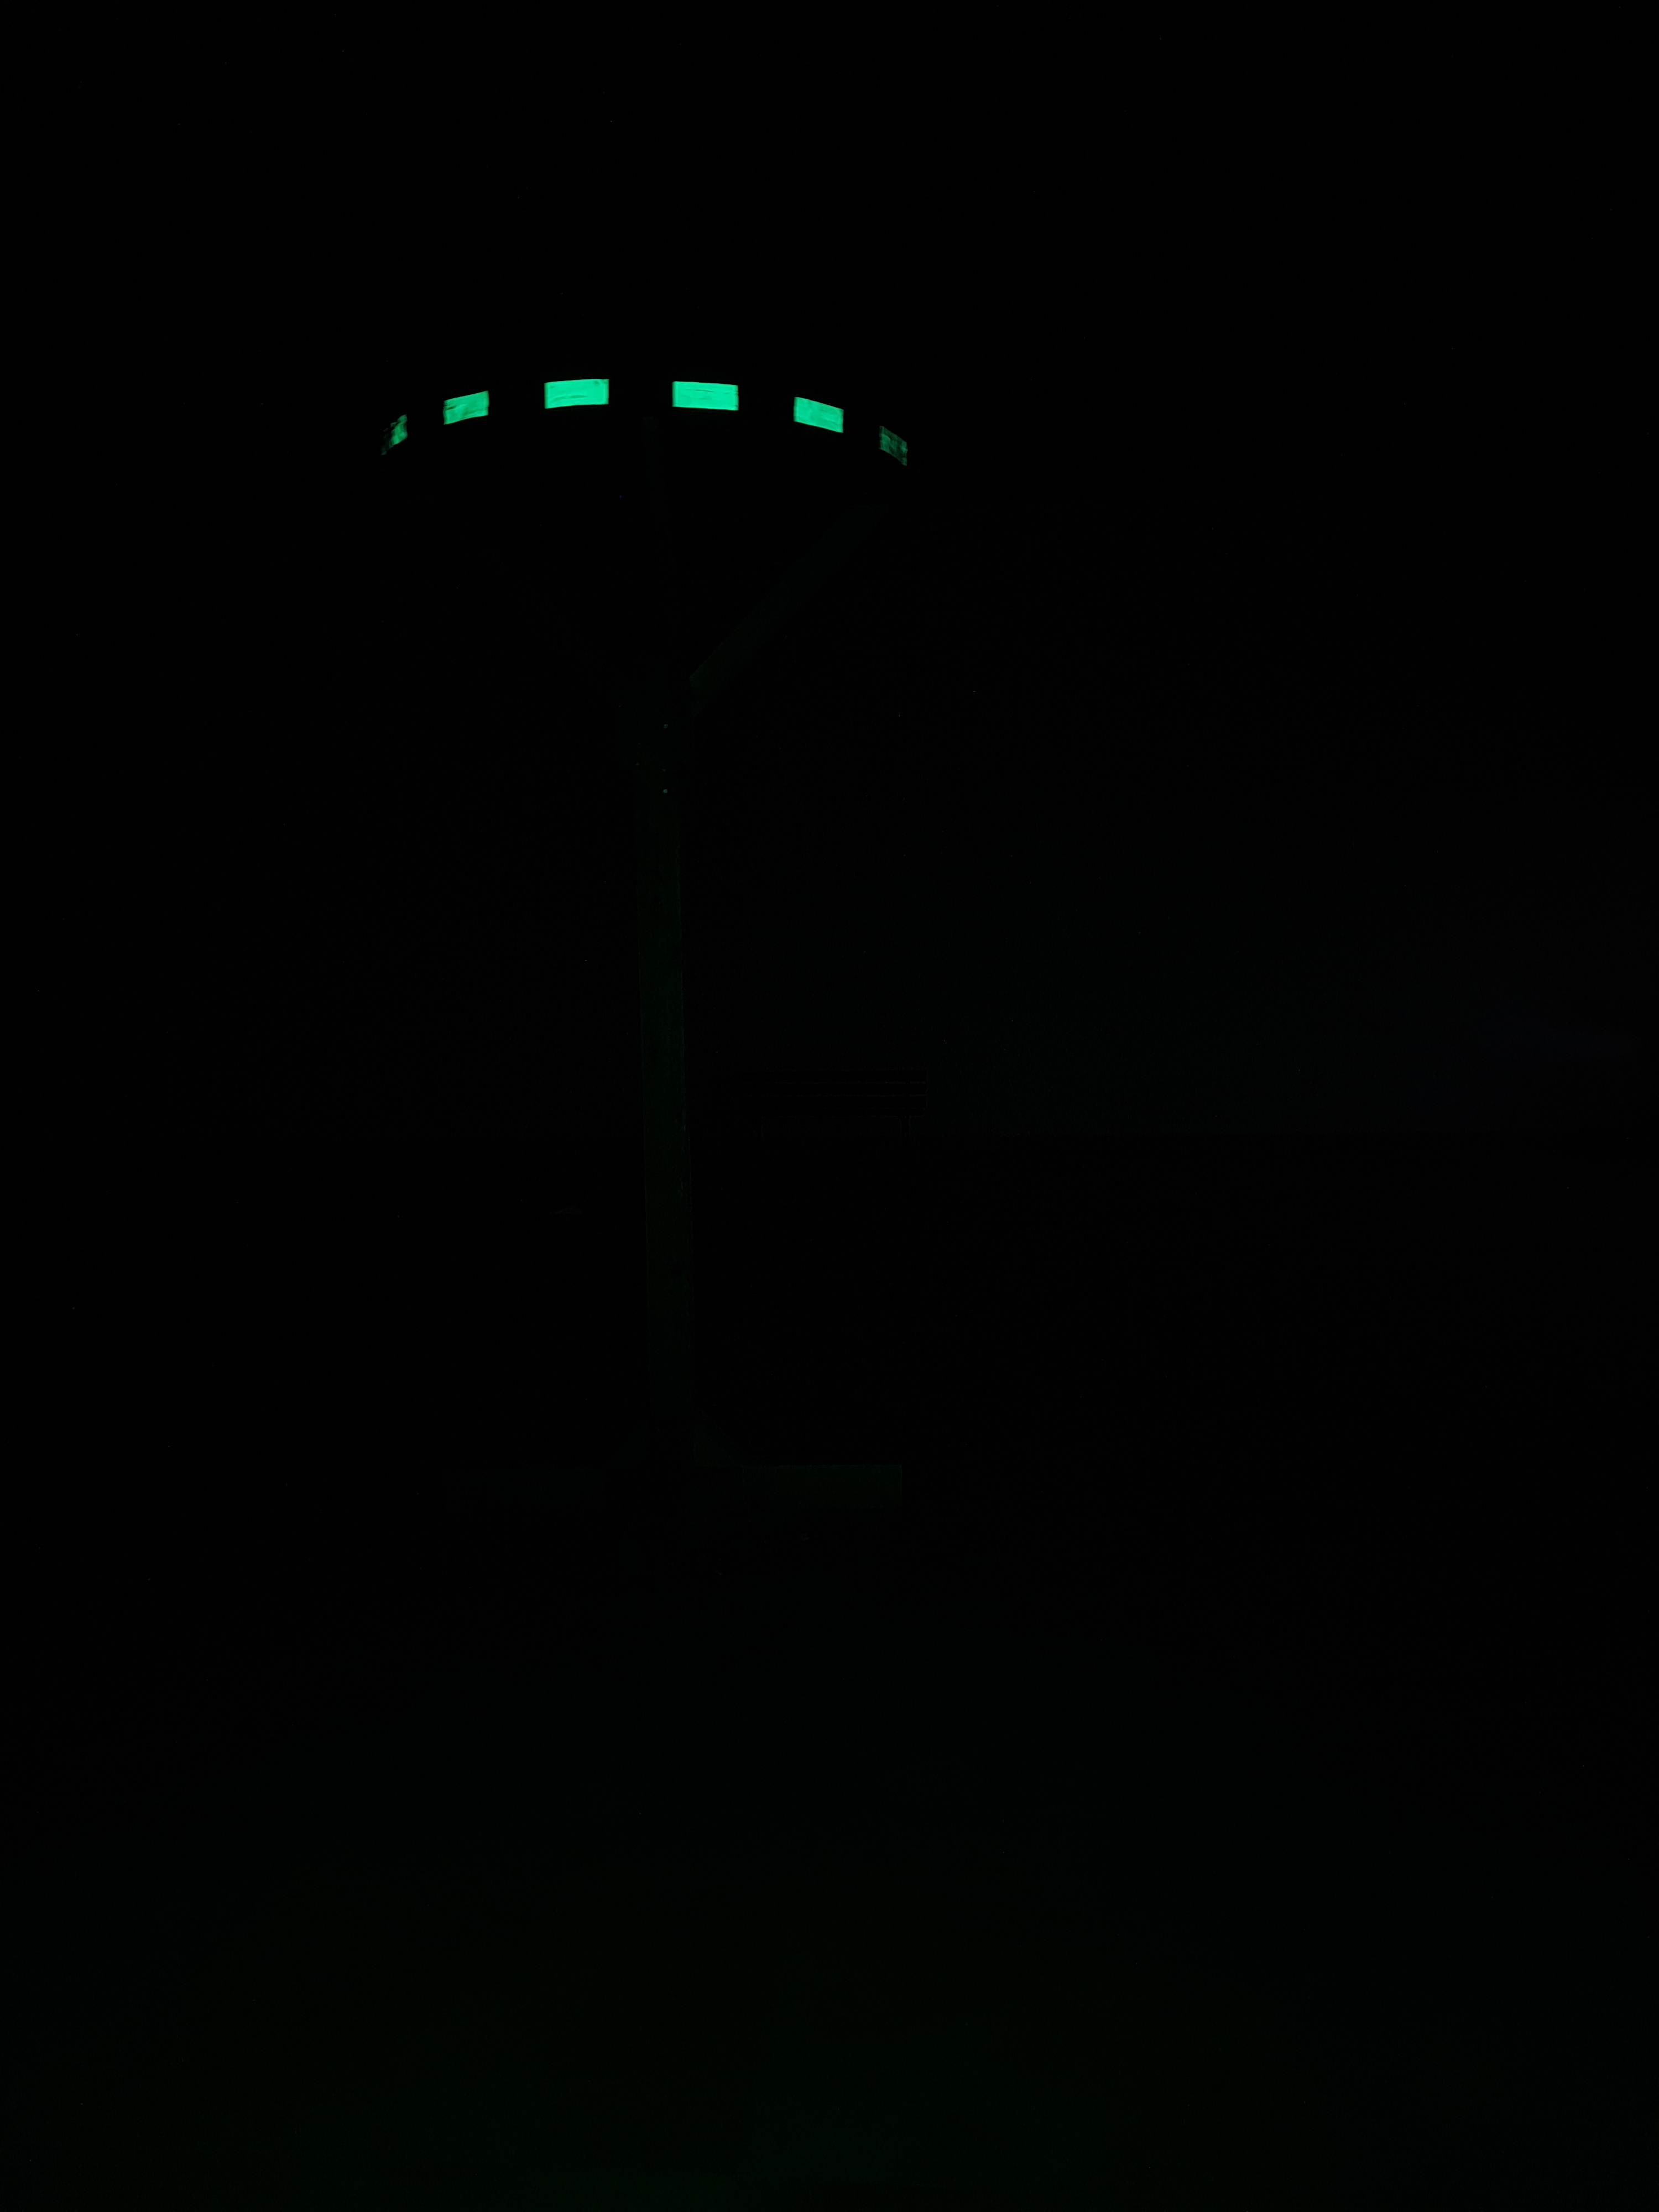hoop: (385, 369, 917, 488)
